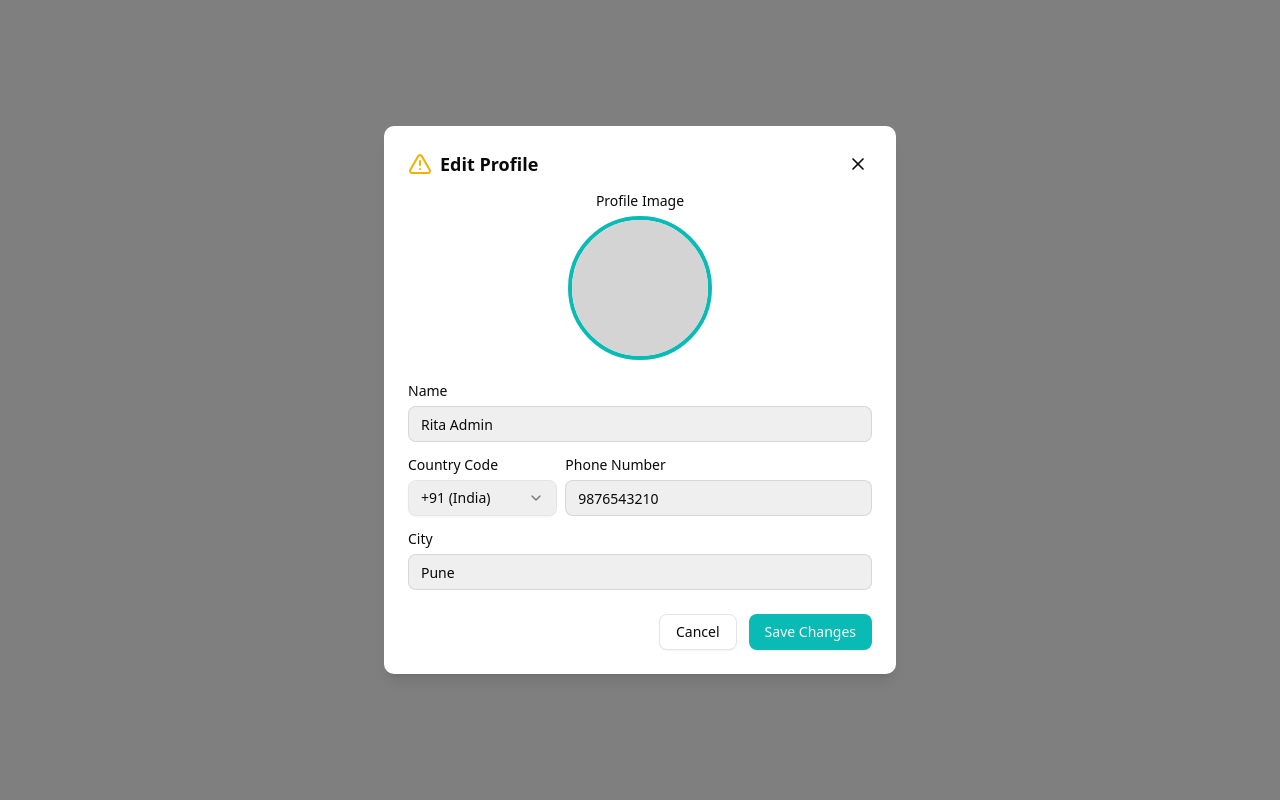
EditProfileModal › refuses to save with a phone number that is too short
The width and height of the screenshot is (1280, 800).
Replace the text in the field with placeholder "Enter phone number" with "12345" at (719, 498), box top-left (565, 480), bottom-right (872, 516)
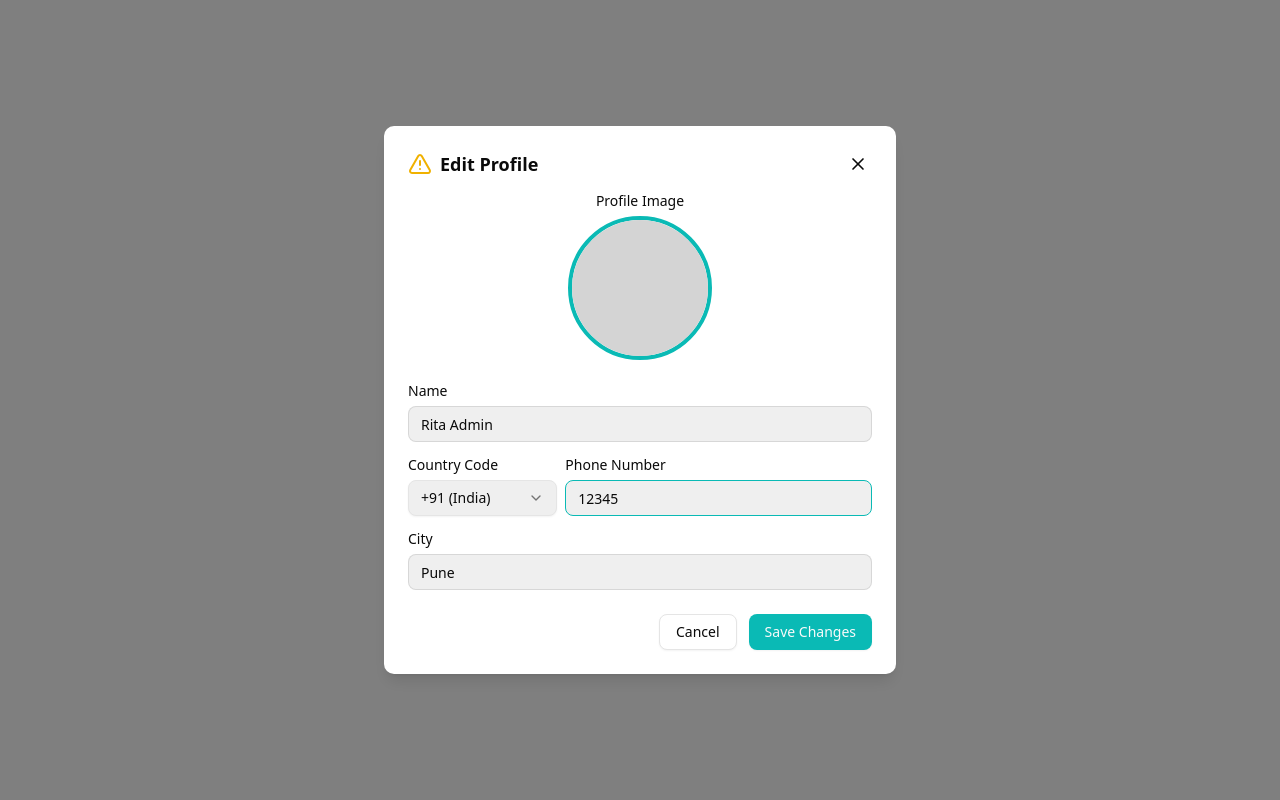
Click the button "Save Changes" at (810, 632), box top-left (749, 614), bottom-right (872, 650)
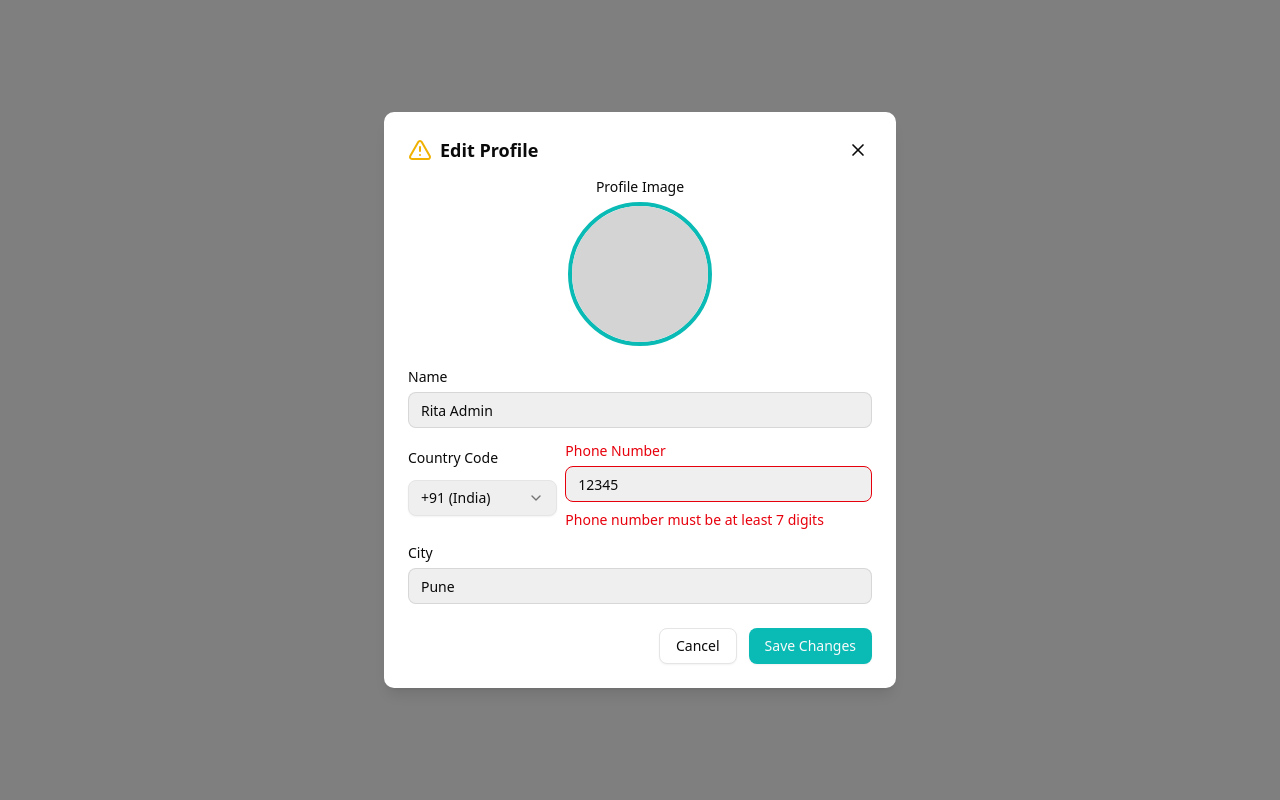
Now the text "Phone number must be at least 7 digits" is shown, box top-left (565, 510), bottom-right (824, 529)
